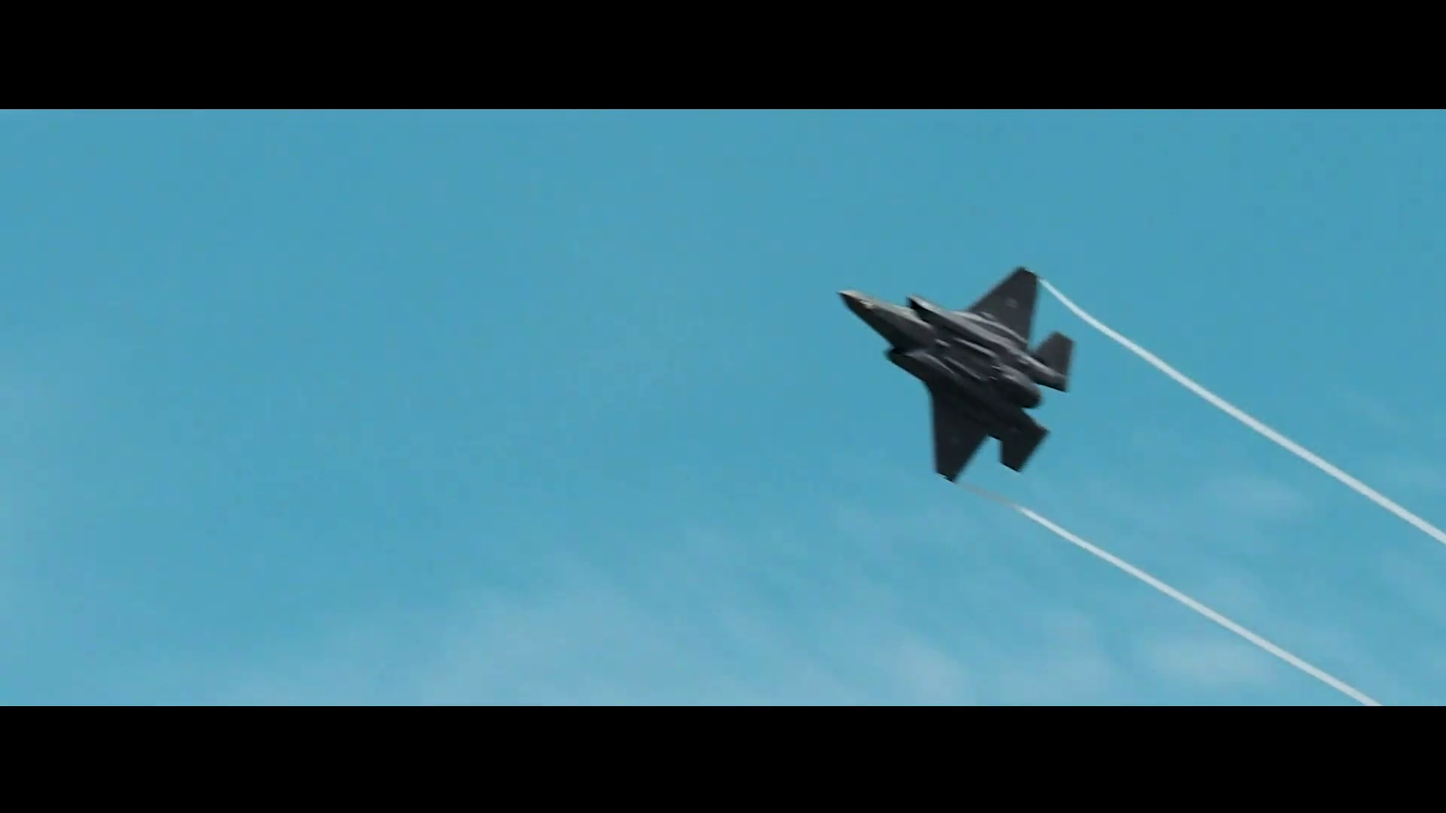F35: (838, 264, 1074, 484)
